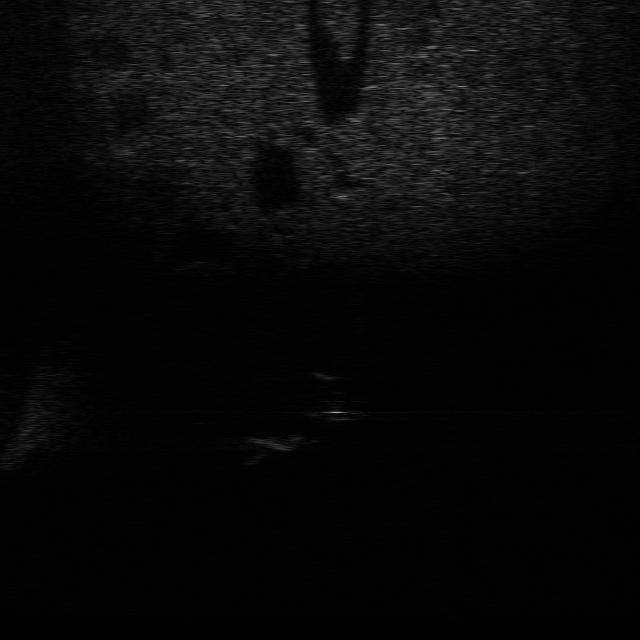ball: (301, 363, 349, 388)
square cage: (236, 429, 318, 465)
tyre: (305, 402, 375, 427)
